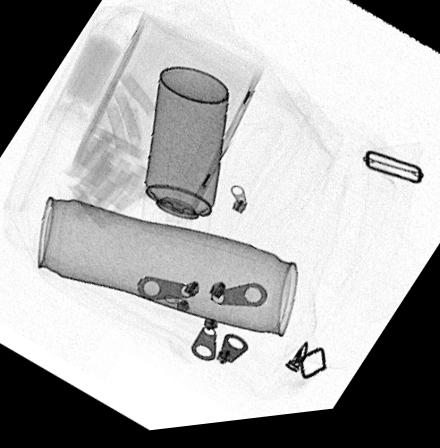Sprayer: (139, 67, 231, 249)
